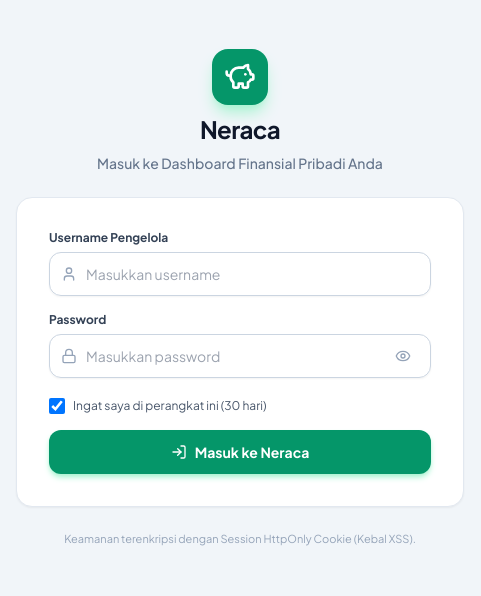
Test: LoginView.vue › menampilkan error jika kredensial salah (401)
Type "vigarp" into the field with id "login-username" at point(240, 274), box [49,252,431,296]
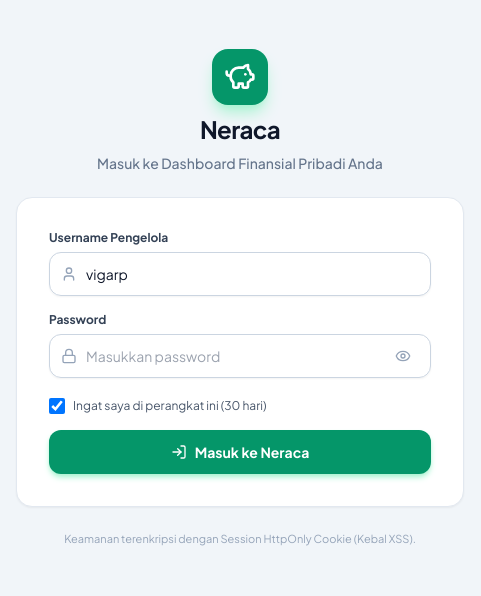
Type "wrongpassword" into the password field with id "login-password" at point(240, 356), box [49,334,431,378]
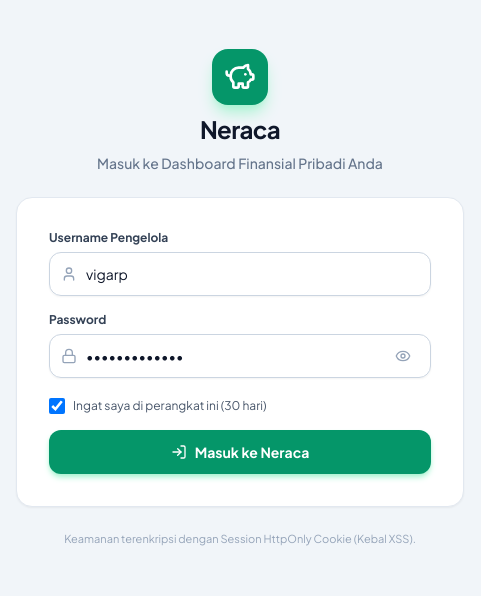
Submit the form, box [49,230,431,474]
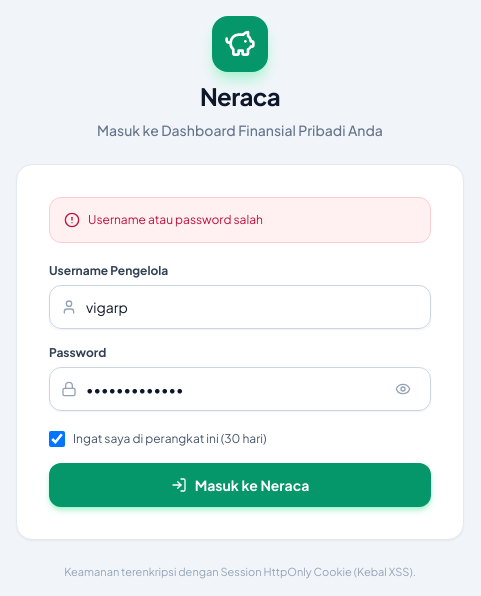
Now the text "Username atau password salah" is shown, box [88,212,263,228]
